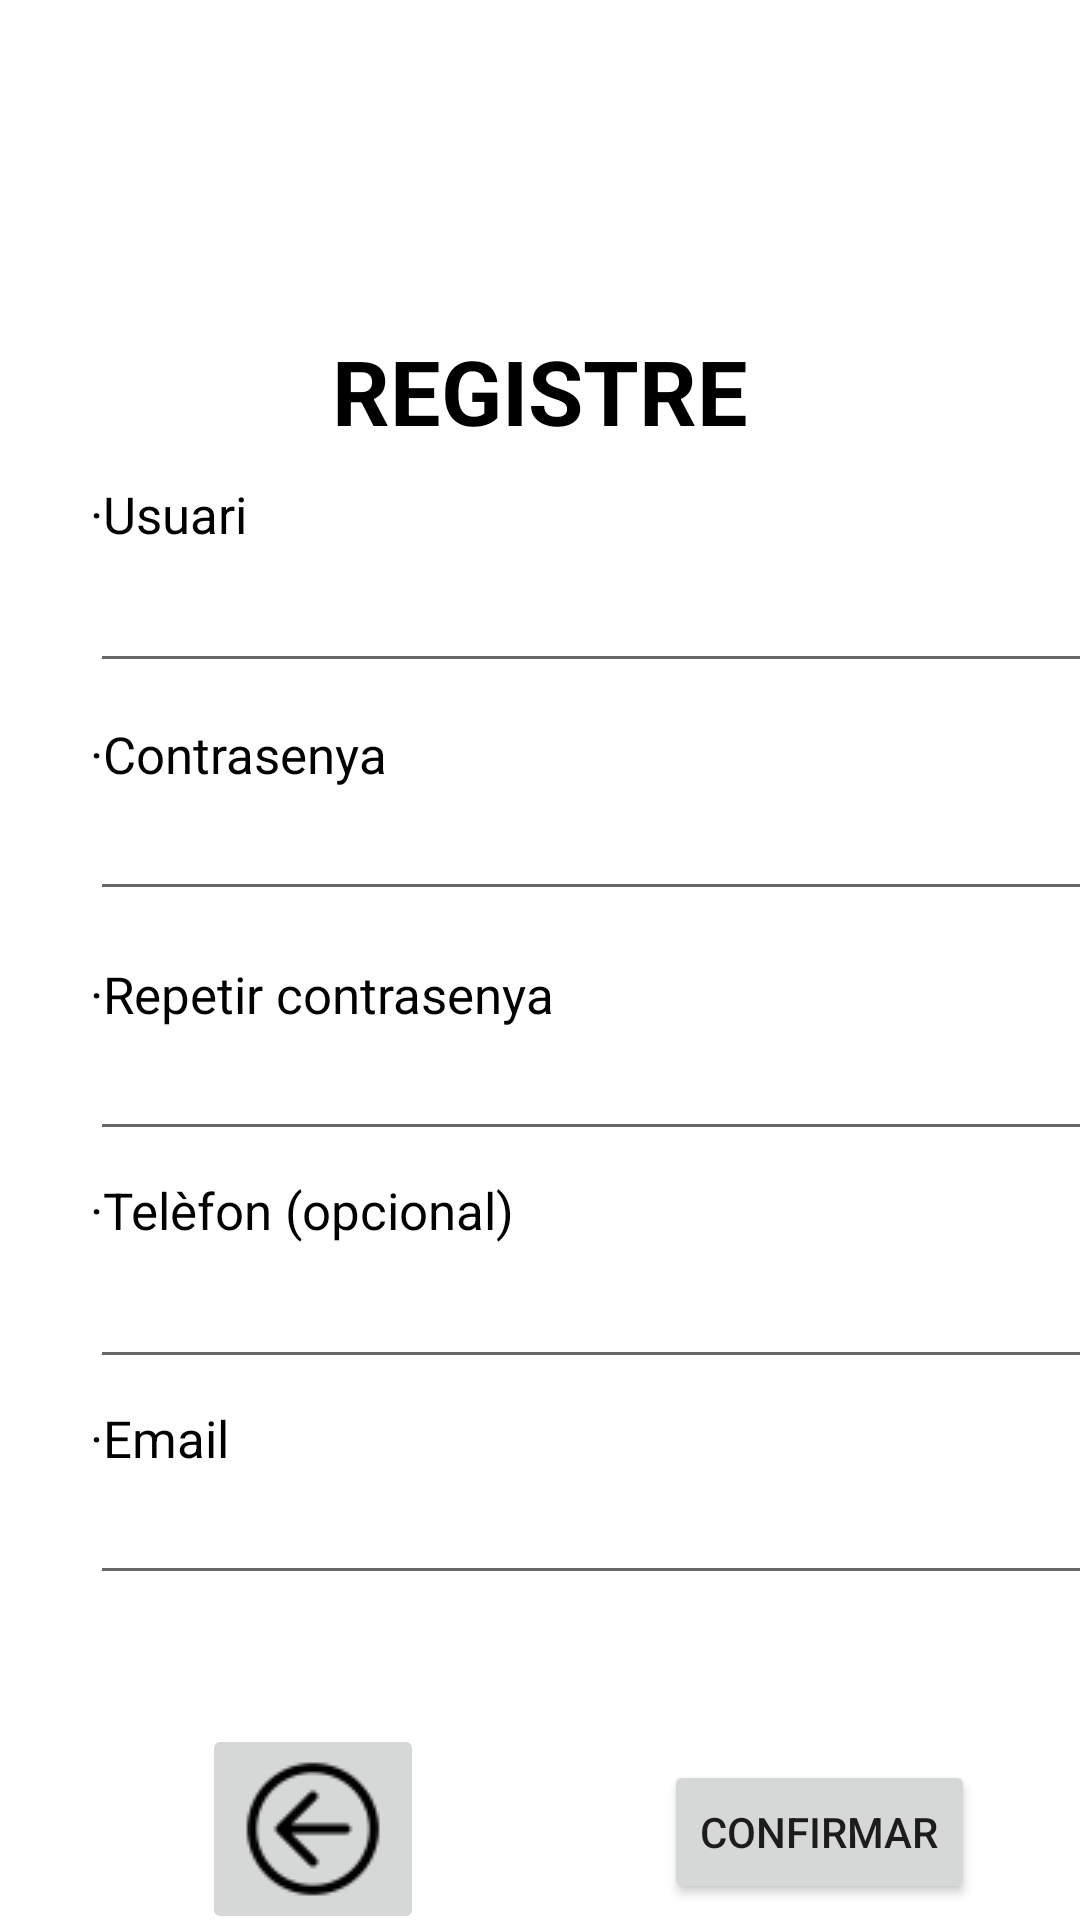

Screen size 1080 × 1920. Icon name, then its center in pixels as point (x, y):
flecha: point (313, 1829)
